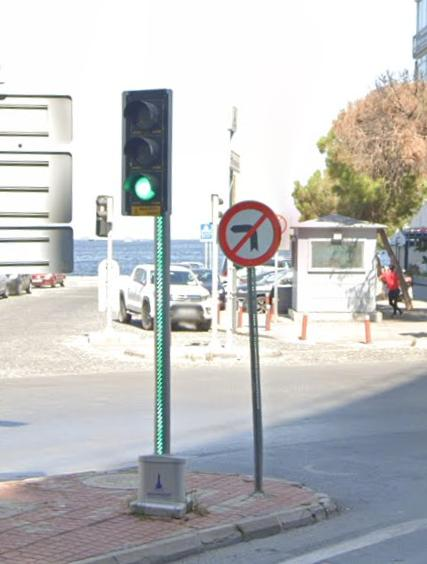greenlight: (120, 88, 174, 218)
leftturnsareforbidden: (223, 201, 277, 263)
